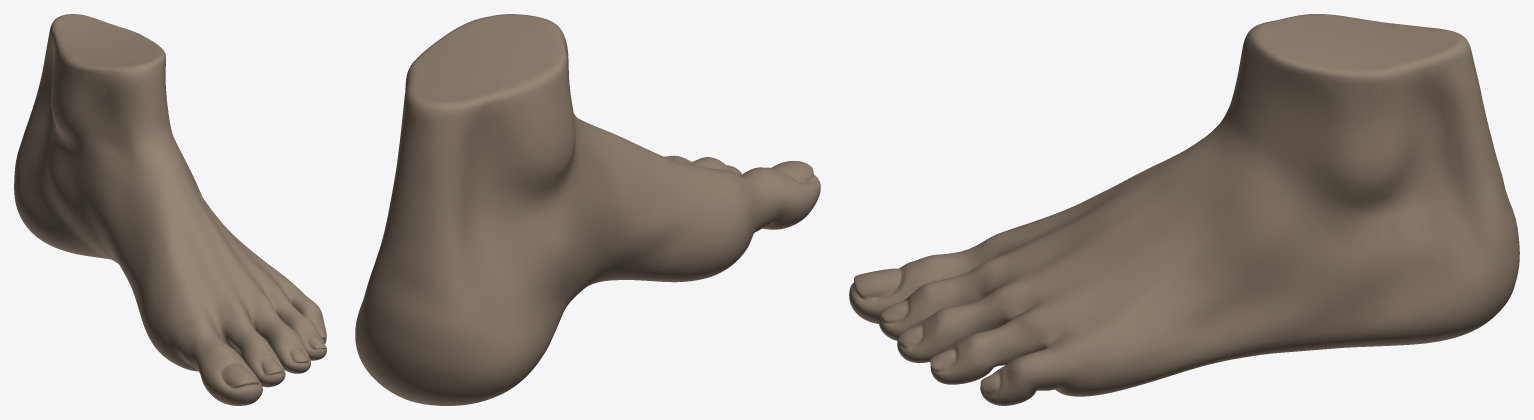
File: foot.medium.optimized.glb
3 views of the same model, side by side, from view 1: azimuth 30°, elevation 25°; view 2: azimuth 150°, elevation 25°; view 3: azimuth 270°, elevation 25° (orthographic). The views are drawn at different scales.
Parts seen in each view (by area): view 1: Foot_Medium; view 2: Foot_Medium; view 3: Foot_Medium.
Part boxes in pixels (x1,y1,x2,y2): Foot_Medium: (14, 14, 326, 405); Foot_Medium: (355, 14, 820, 405); Foot_Medium: (849, 14, 1519, 405).
Bounding box in the file's own units: 2.62 × 3.65 × 7.
